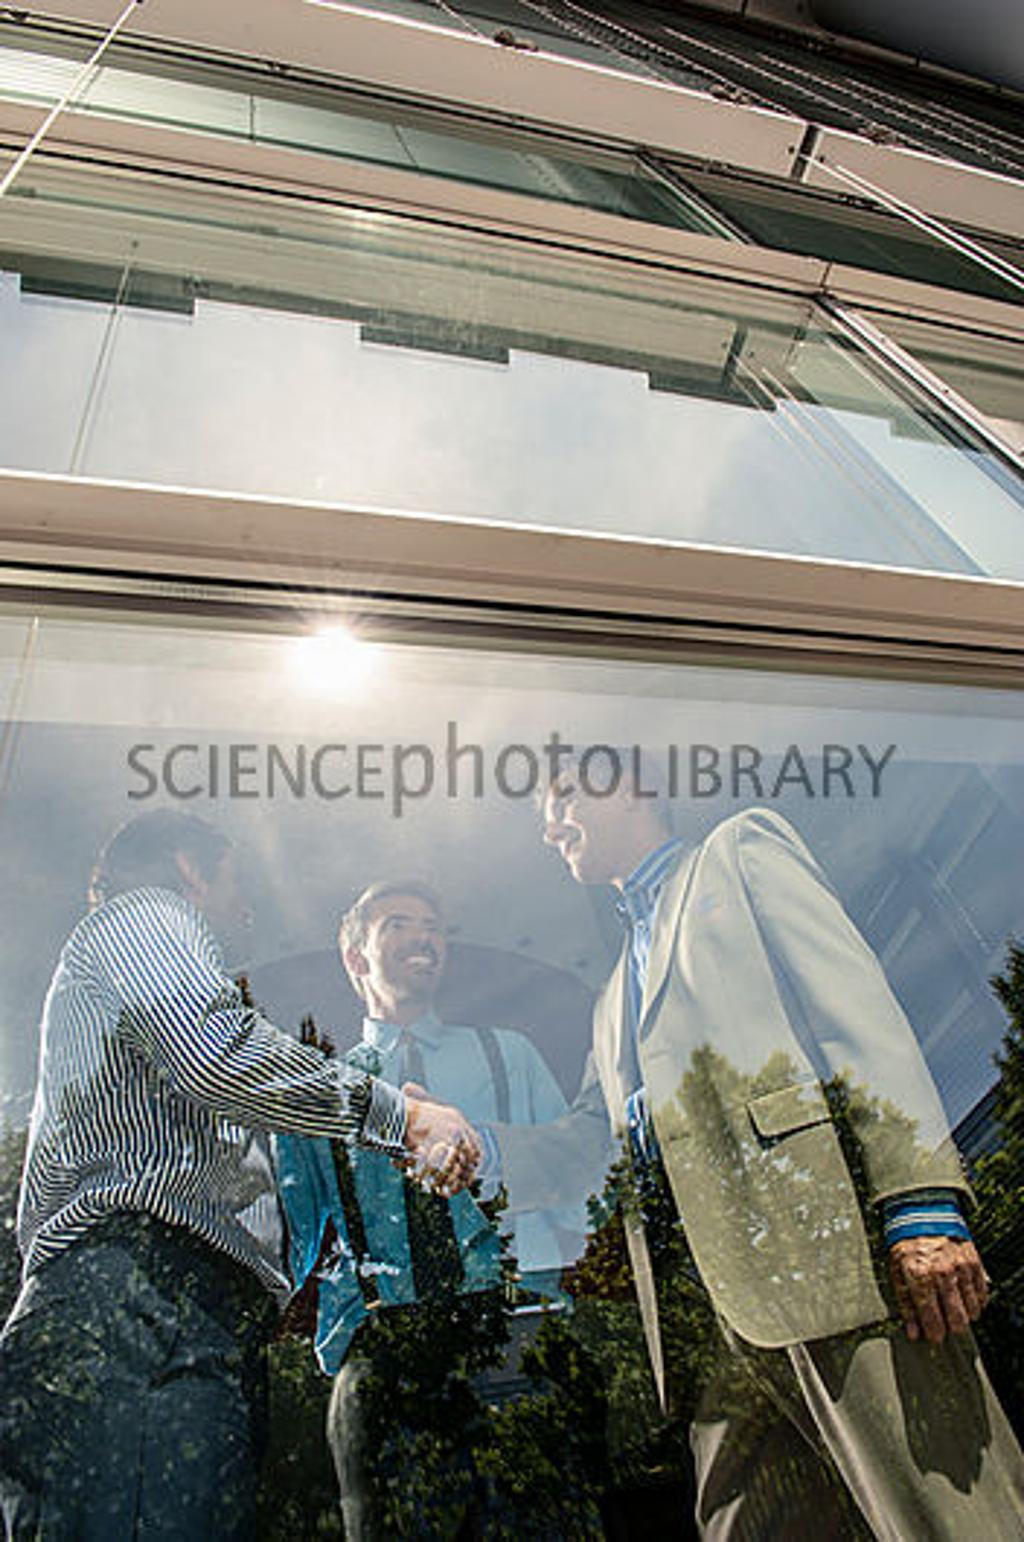face: (364, 894, 451, 993), (545, 771, 623, 879), (187, 825, 256, 945)
